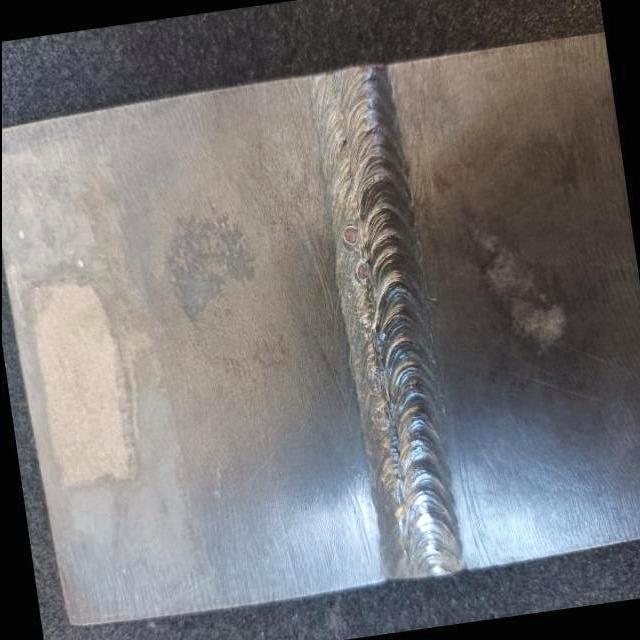defect: (338, 218, 359, 249), (354, 257, 373, 286), (364, 367, 383, 392), (372, 402, 390, 427), (336, 133, 349, 148)
